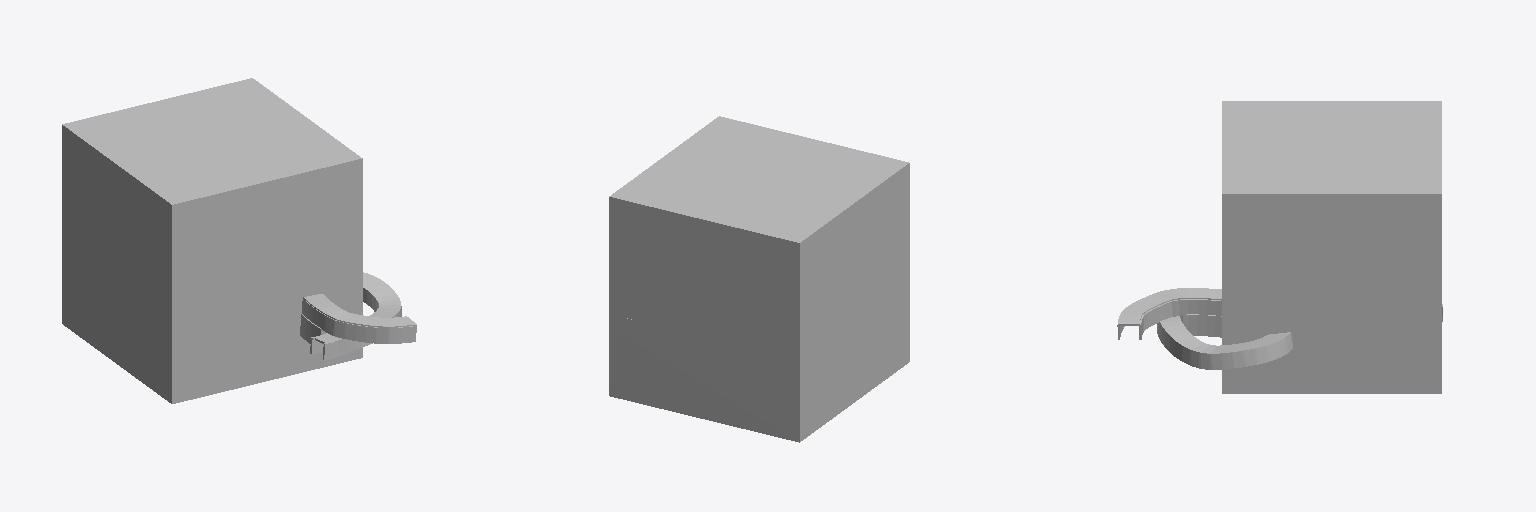
File: track 6_decor.obj
3 renders of one model, left to right at view 1: azimuth 30°, elevation 25°; view 2: azimuth 150°, elevation 25°; view 3: azimuth 270°, elevation 25°, orthographic.
Visible parts, largest first — view 1: Cube.043_Cube.058, Cube.034_Cube.049, Cube.041_Cube.056, Cube.042_Cube.057, Cube.037_Cube.052; view 2: Cube.043_Cube.058; view 3: Cube.043_Cube.058, Cube.037_Cube.052, Cube.041_Cube.056, Cube.035_Cube.050, Cube.042_Cube.057, Cube.040_Cube.055.
Boxes of the visible parts, x1=… form: Cube.043_Cube.058: x1=62, y1=78, x2=362, y2=403; Cube.034_Cube.049: x1=302, y1=299, x2=416, y2=343; Cube.041_Cube.056: x1=303, y1=294, x2=416, y2=327; Cube.042_Cube.057: x1=315, y1=274, x2=398, y2=343; Cube.037_Cube.052: x1=323, y1=272, x2=401, y2=360; Cube.043_Cube.058: x1=609, y1=116, x2=909, y2=442; Cube.043_Cube.058: x1=1222, y1=101, x2=1442, y2=393; Cube.037_Cube.052: x1=1157, y1=321, x2=1292, y2=369; Cube.041_Cube.056: x1=1118, y1=288, x2=1221, y2=325; Cube.035_Cube.050: x1=1139, y1=299, x2=1221, y2=339; Cube.042_Cube.057: x1=1162, y1=316, x2=1287, y2=352; Cube.040_Cube.055: x1=1180, y1=314, x2=1221, y2=337.
Bounding box in the file's own units: 217 × 183 × 271.